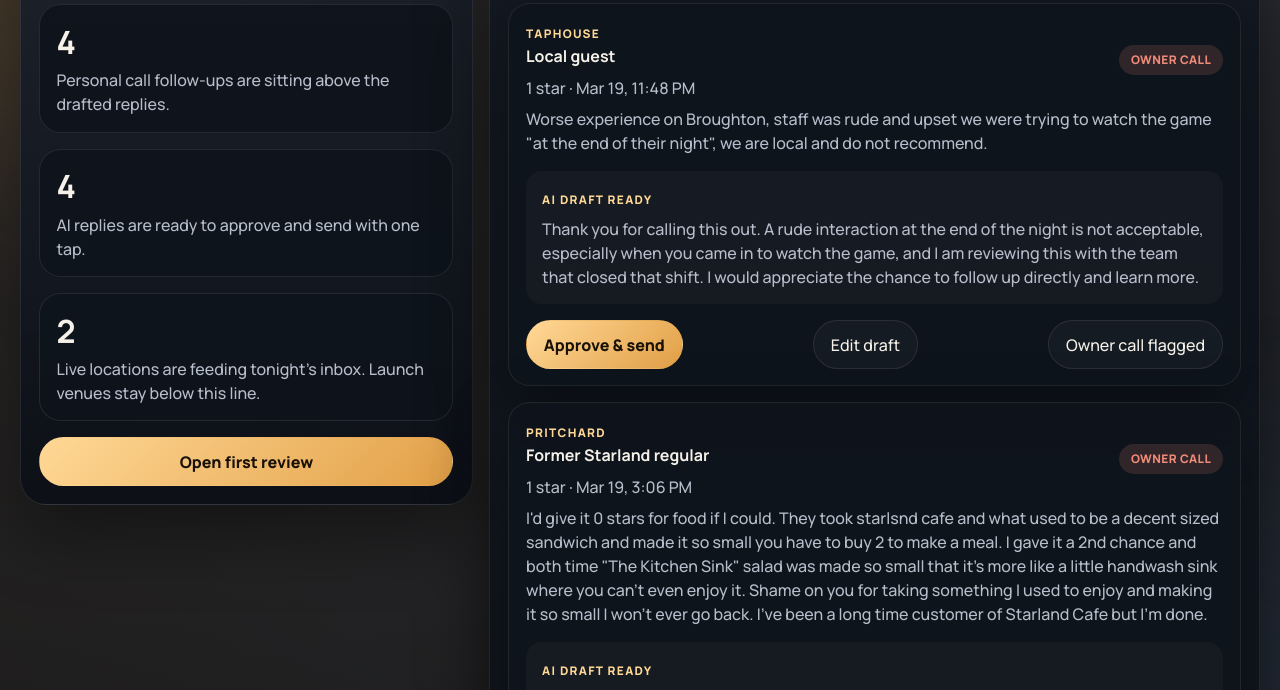
Test: App responsive workflow › keeps inline editing on desktop viewports
This screenshot has width=1280, height=690.
(page scrolled)
Click the button "Edit draft" at (865, 345), box [813,320,918,369]
(page scrolled)
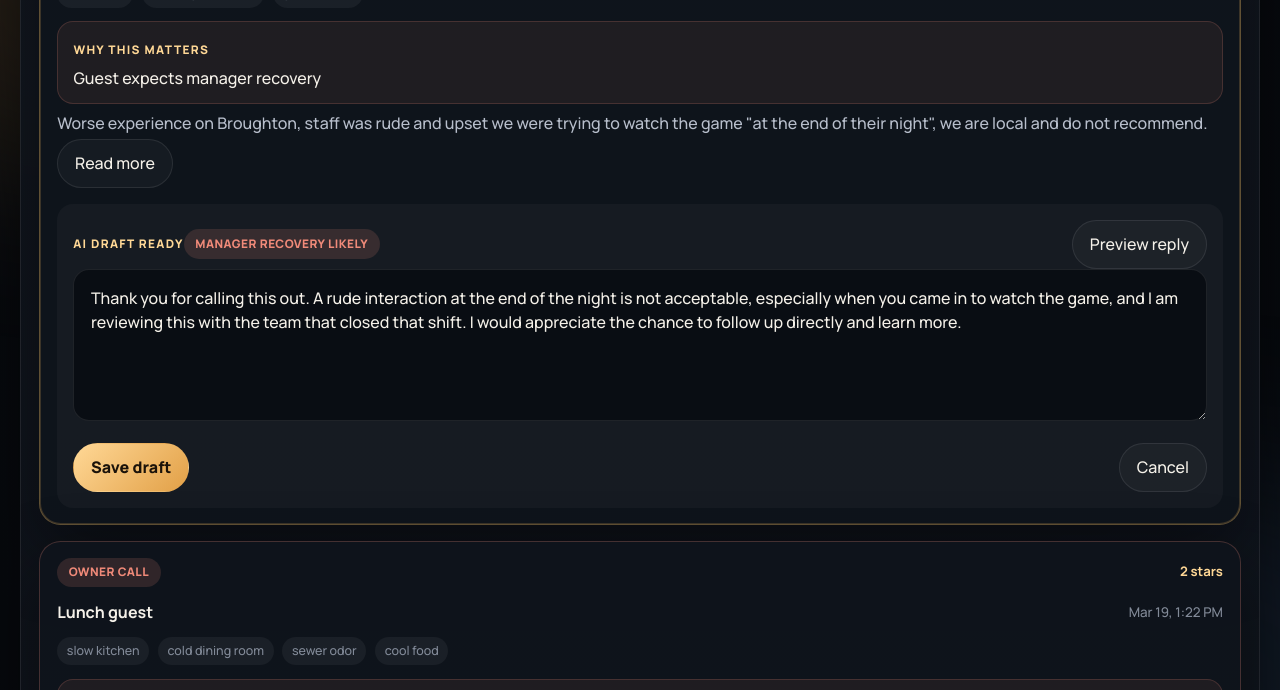
Expected: the text box named "edit response for" is shown, [73,269,1207,421]
